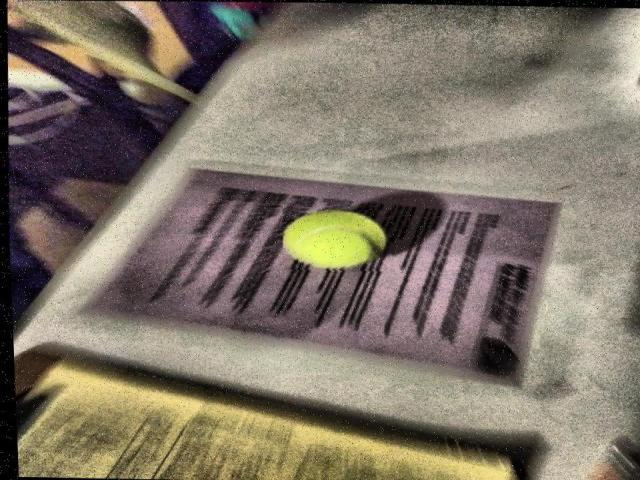tennis-ball: (280, 210, 388, 268)
